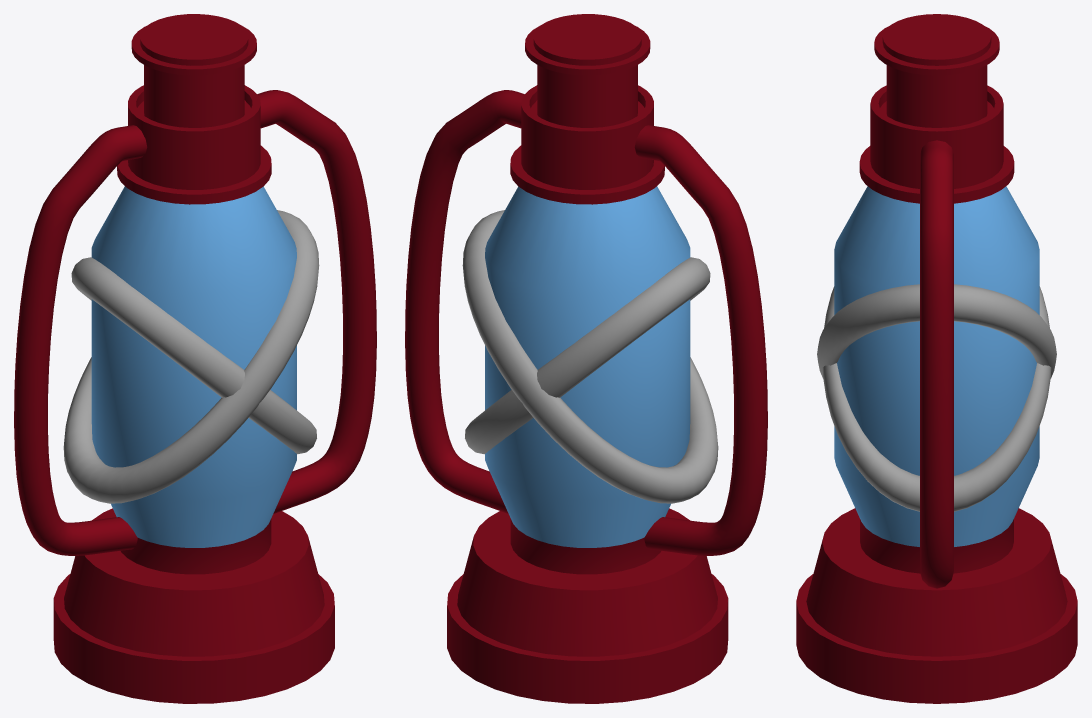
Rendered from Lamp.fbx.
The picture shows the model from 3 angles, left to right: view 1: azimuth 30°, elevation 25°; view 2: azimuth 150°, elevation 25°; view 3: azimuth 270°, elevation 25°; orthographic projection.
Visible parts, largest first — view 1: Lamp; view 2: Lamp; view 3: Lamp.
Boxes of the visible parts, box(x1,y1,x2,y2) form: Lamp: box(14, 14, 376, 703); Lamp: box(405, 14, 767, 703); Lamp: box(796, 14, 1077, 703).
Bounding box in the file's own units: 294 × 476 × 200.
